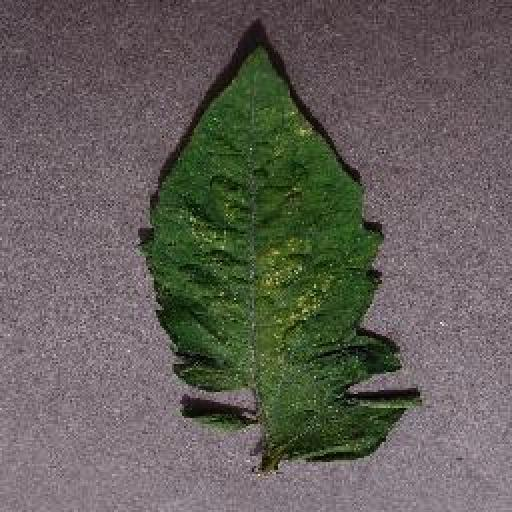disease_tomato: (142, 42, 422, 464)
